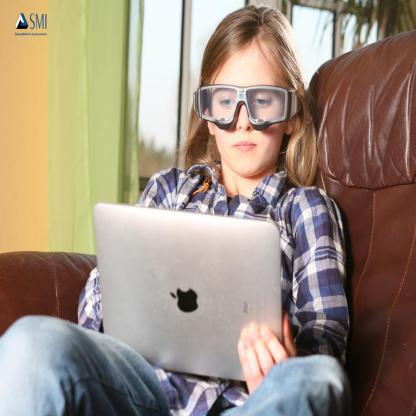board: (92, 204, 282, 378)
